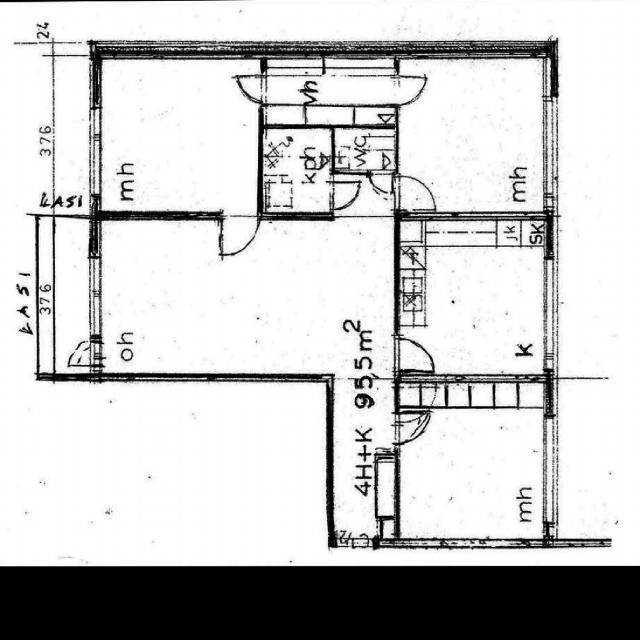door: (336, 538, 374, 586), (221, 213, 257, 254), (394, 177, 433, 210), (394, 339, 431, 370), (394, 412, 429, 442), (394, 76, 428, 105), (329, 182, 360, 209), (66, 342, 100, 366), (232, 75, 262, 102), (369, 170, 392, 196)
